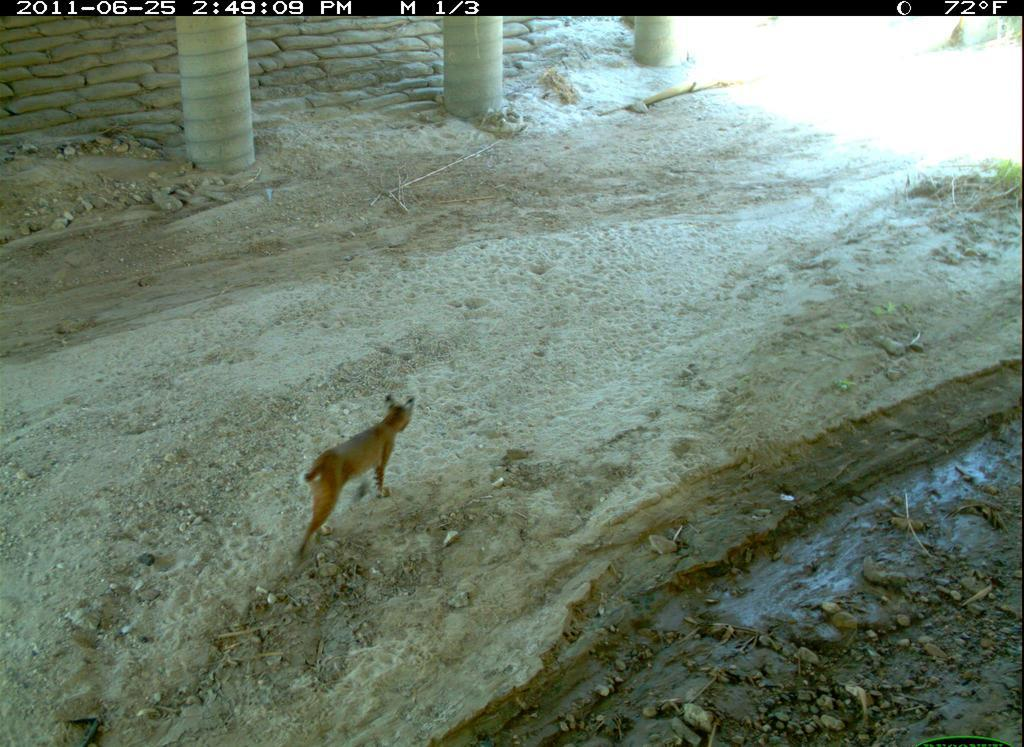bobcat: (291, 387, 427, 568)
